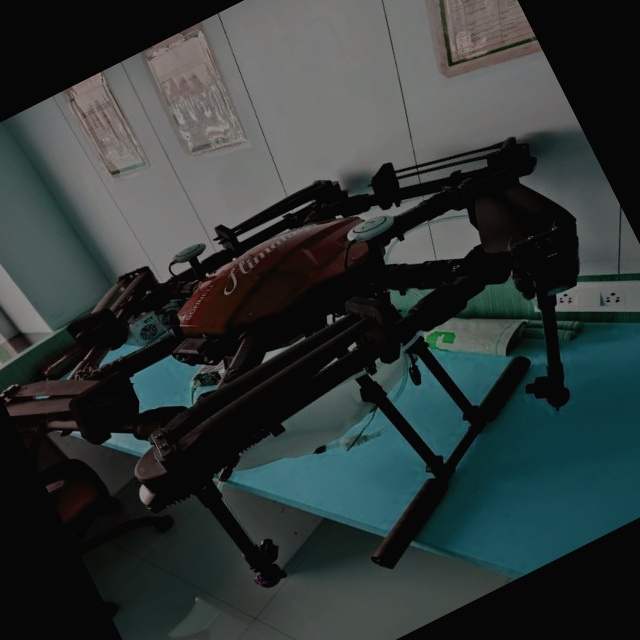agriculturedrone: (0, 74, 640, 640)
